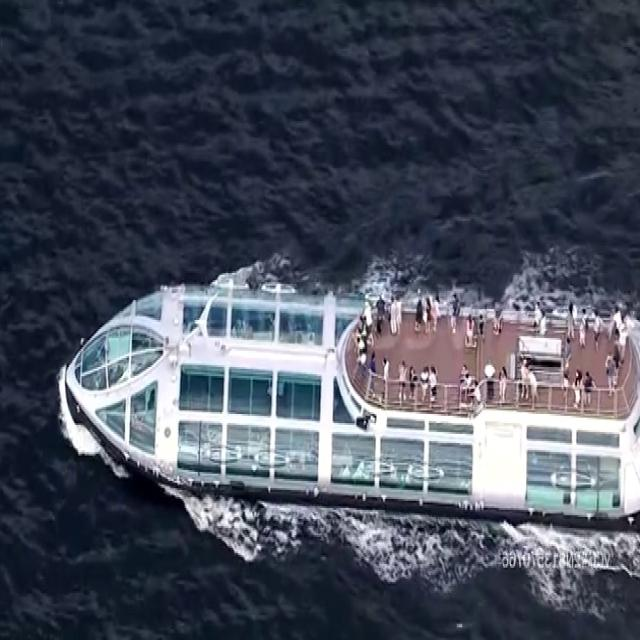passenger ship: (68, 257, 640, 517)
